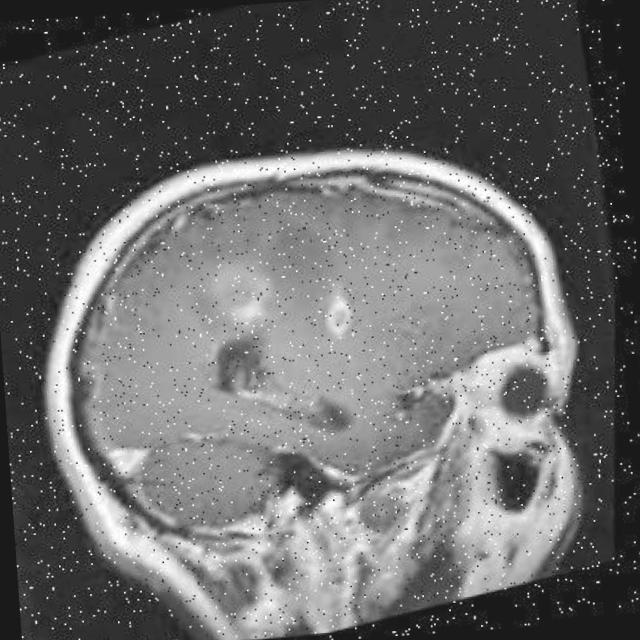MCI: (268, 268, 418, 389)
